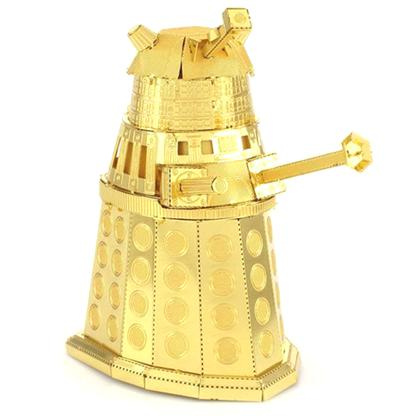dalek: (30, 1, 392, 408)
